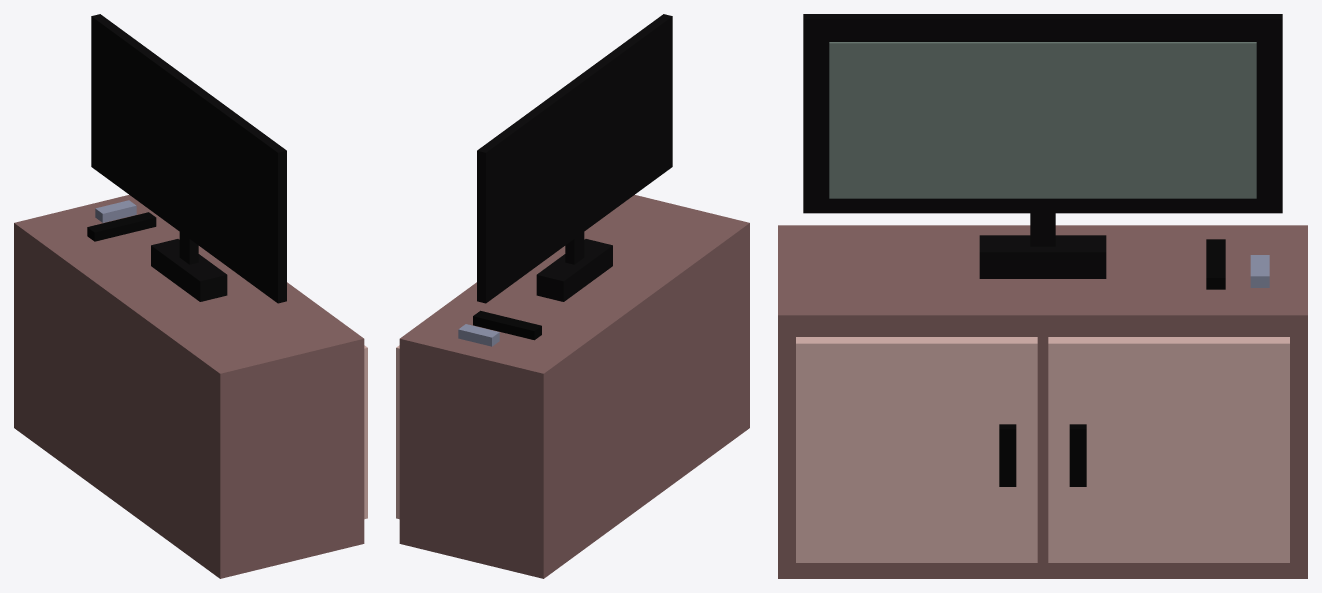
File: tv_stand.fbx
The picture shows the model from 3 angles, left to right: view 1: azimuth 30°, elevation 25°; view 2: azimuth 150°, elevation 25°; view 3: azimuth 270°, elevation 25°; orthographic projection. The views are drawn at different scales.
Parts seen in each view (by area): view 1: Cube, Cube.003, Cube.005, Cube.001, Cube.006; view 2: Cube, Cube.003, Cube.005, Cube.001, Cube.006; view 3: Cube.001, Cube, Cube.004, Cube.003, Cube.002, Cube.005.
Boxes of the visible parts, <box> form: Cube: <box>14,195,364,578</box>; Cube.003: <box>91,14,286,303</box>; Cube.005: <box>87,212,156,241</box>; Cube.001: <box>364,345,367,519</box>; Cube.006: <box>95,200,136,222</box>; Cube: <box>399,195,749,578</box>; Cube.003: <box>477,14,672,303</box>; Cube.005: <box>473,310,541,340</box>; Cube.001: <box>396,345,399,519</box>; Cube.006: <box>458,324,499,346</box>; Cube.001: <box>796,337,1289,562</box>; Cube: <box>778,225,1307,578</box>; Cube.004: <box>829,42,1256,198</box>; Cube.003: <box>803,14,1282,278</box>; Cube.002: <box>999,424,1086,486</box>; Cube.005: <box>1206,239,1225,289</box>.
Bounding box in the file's own units: 372 × 882 × 819.
